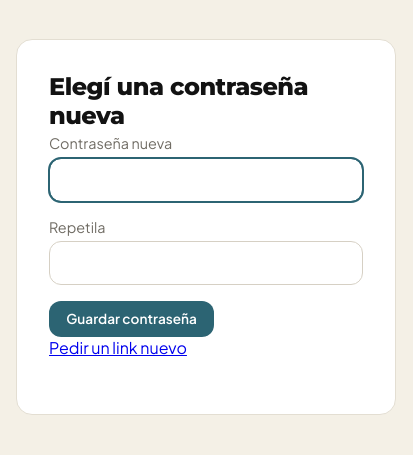
Test: RestablecerPassword › muestra el motivo cuando el link ya vencio
Type "password-larga-1" into the password field labelled "Contraseña nueva".
click(206, 180); type("password-larga-1")  # box [49,158,363,202]
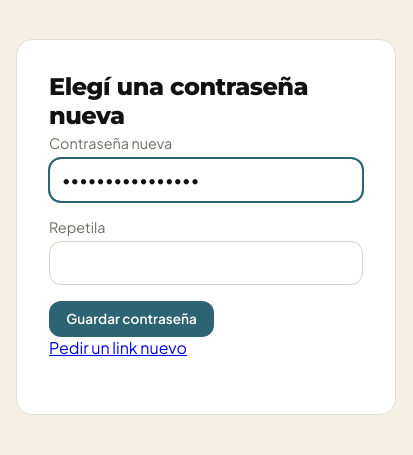
Type "password-larga-1" into the password field labelled "Repetila".
click(206, 262); type("password-larga-1")  # box [49,240,363,284]
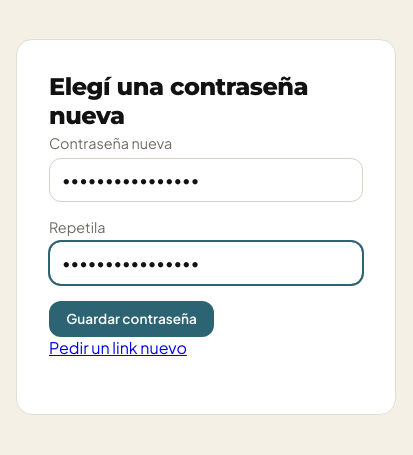
Click the button "Guardar contraseña".
click(132, 318)  # box [49,300,214,336]
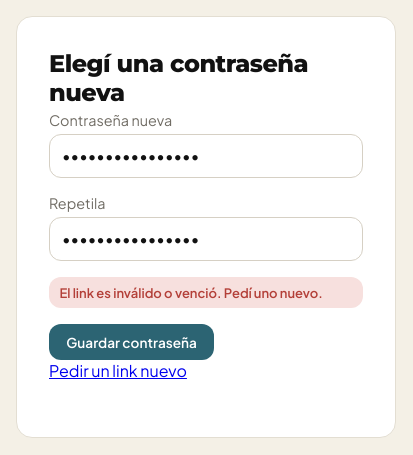
Check: the message shows "venció", box [59,284,323,300]
